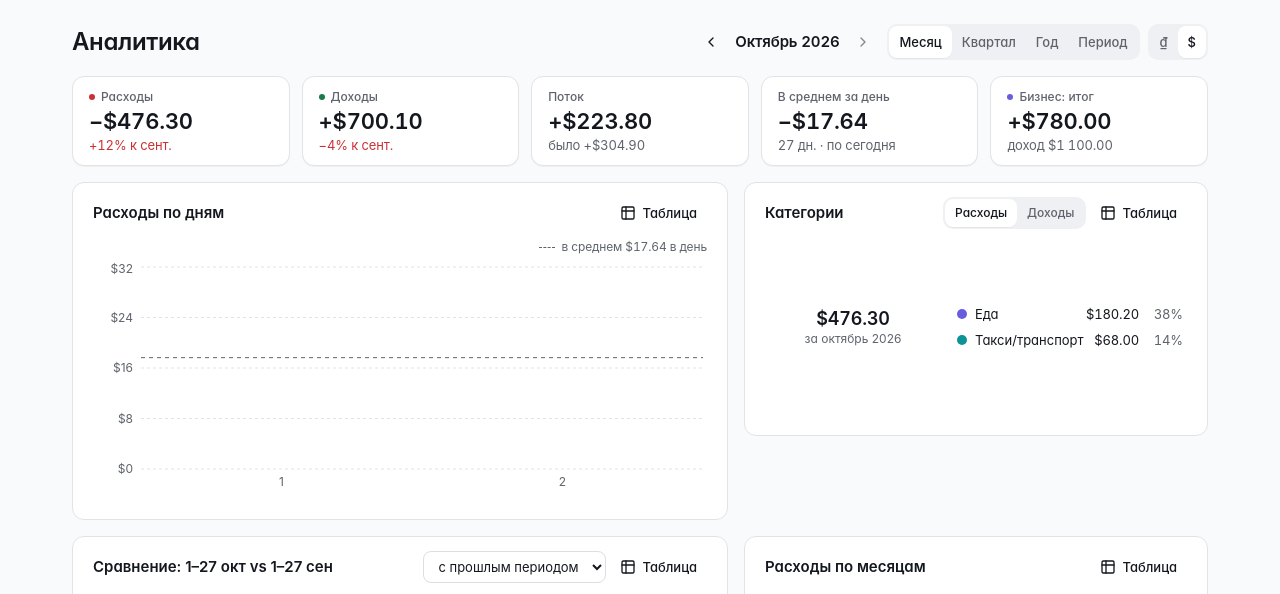
Test case: AnalyticsView › ₫/$ switch refetches in VND; period arrows move by month
Expected: the text "−$476.30" is shown, top-left (89, 108), bottom-right (193, 134)
Click the radio button labelled "₫" at (1164, 42), box top-left (1150, 26), bottom-right (1178, 58)
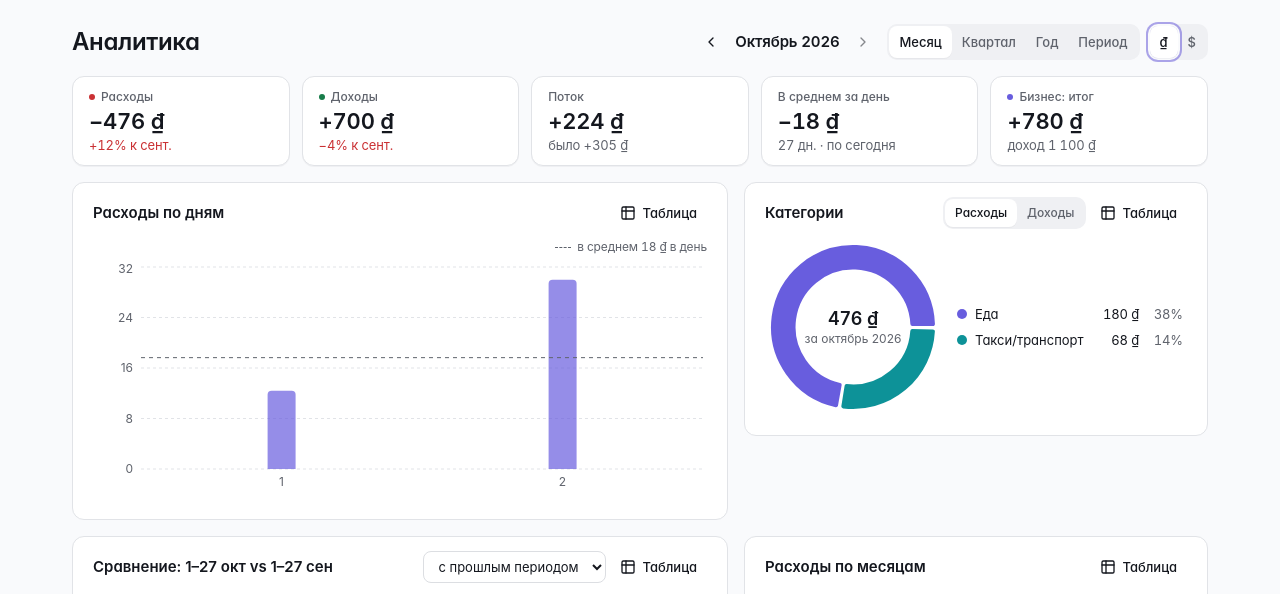
Click the button named "Предыдущий период" at (711, 42), box top-left (695, 26), bottom-right (727, 58)
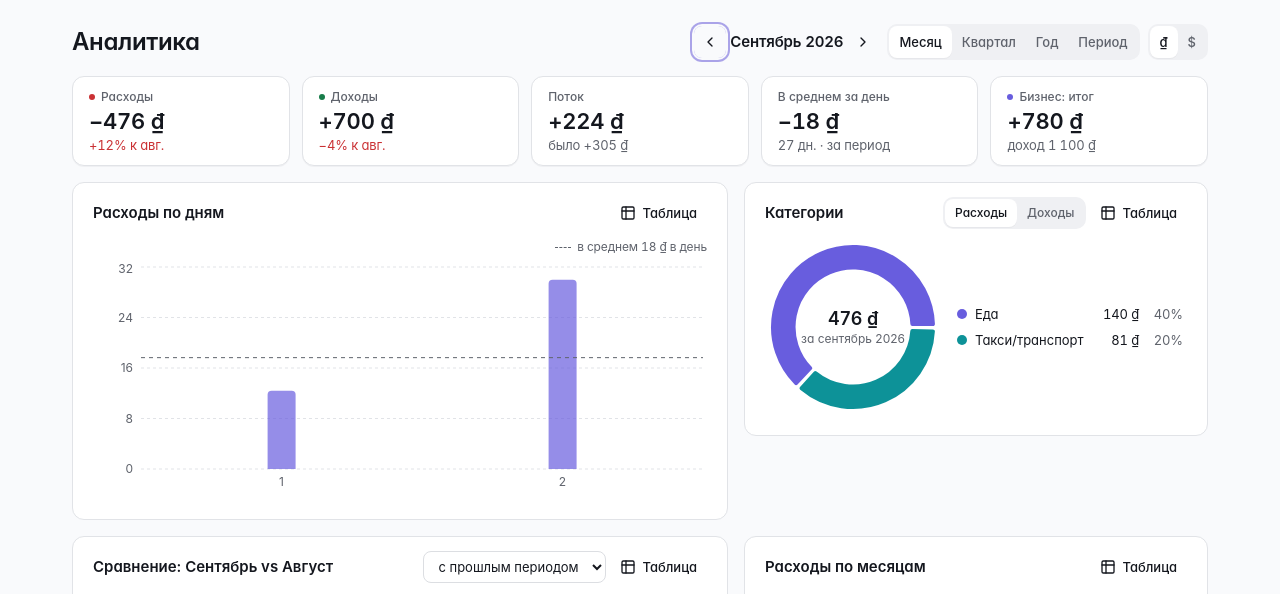
Expected: the text "Сентябрь 2026" is shown, top-left (730, 32), bottom-right (843, 52)
